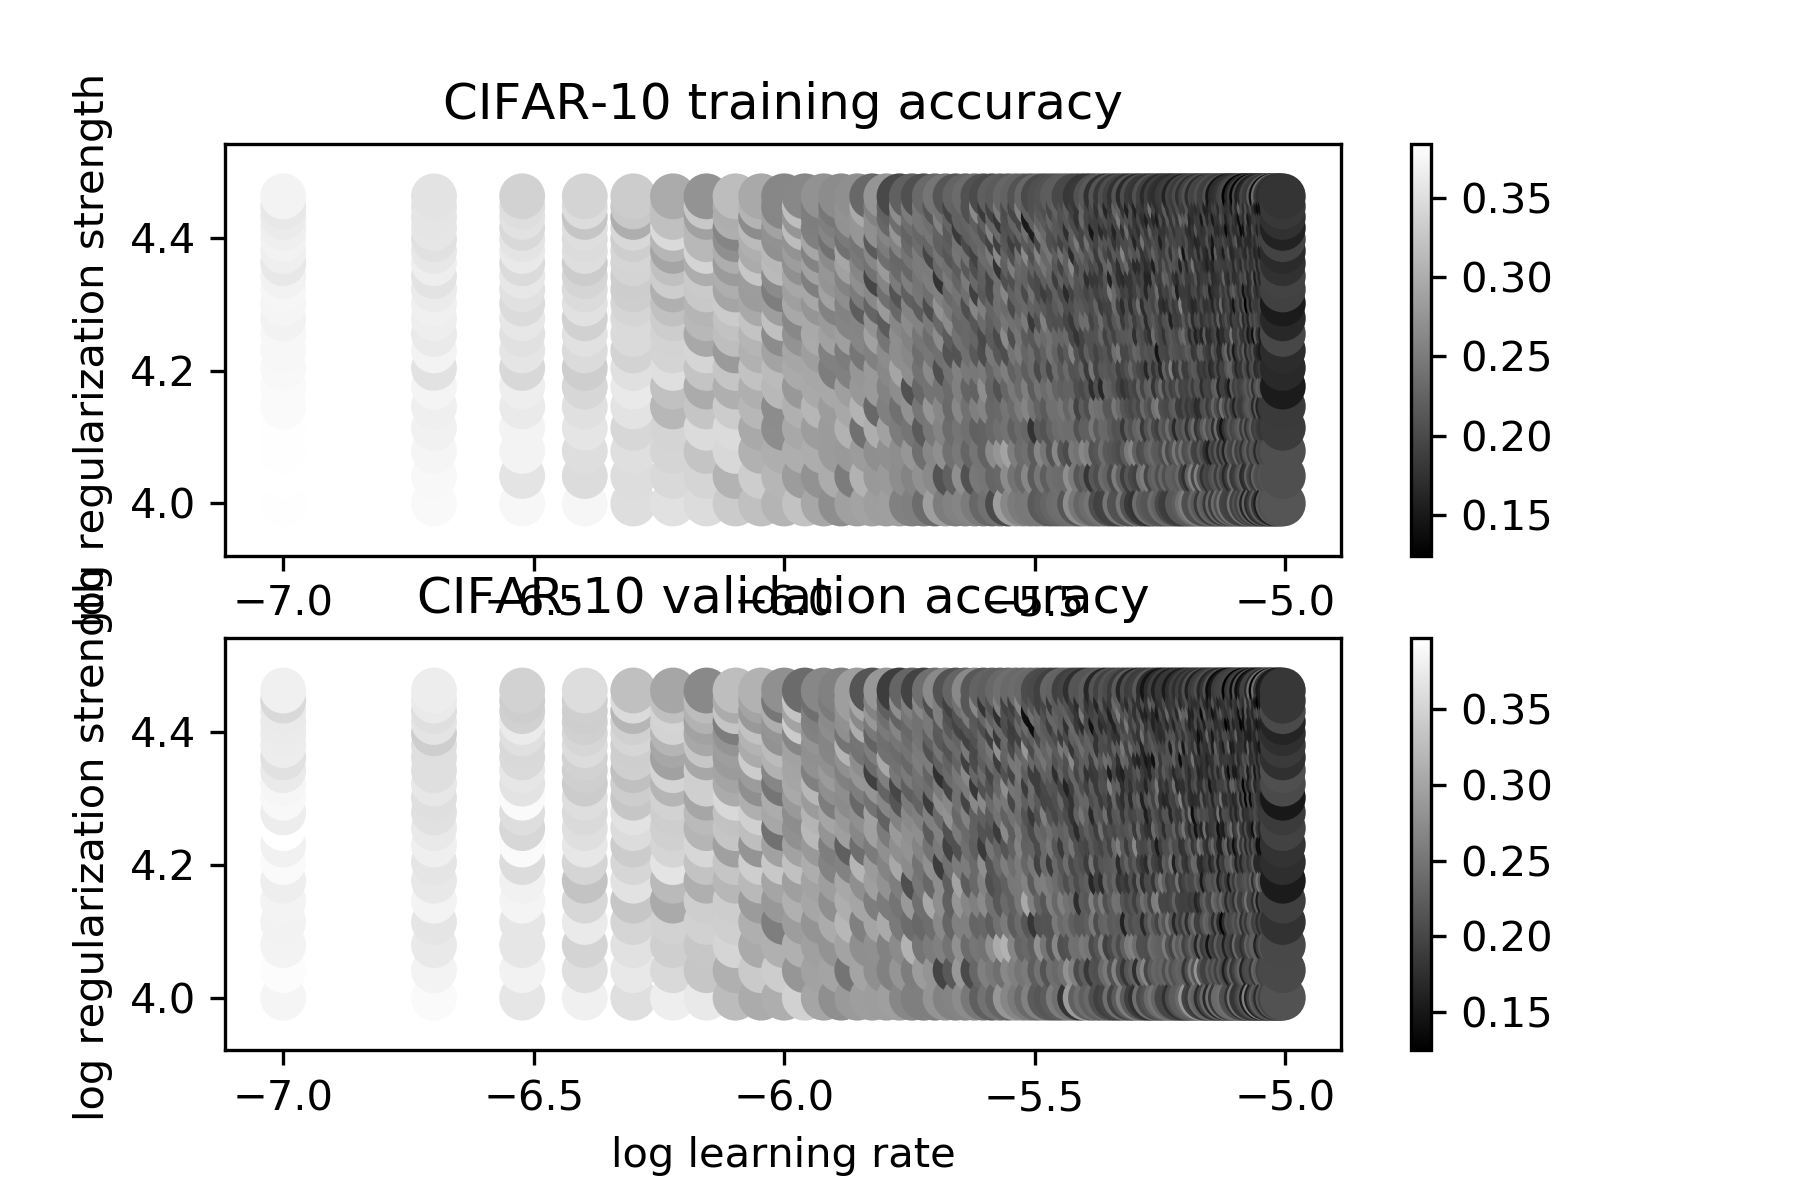person: (976, 495, 1500, 968)
